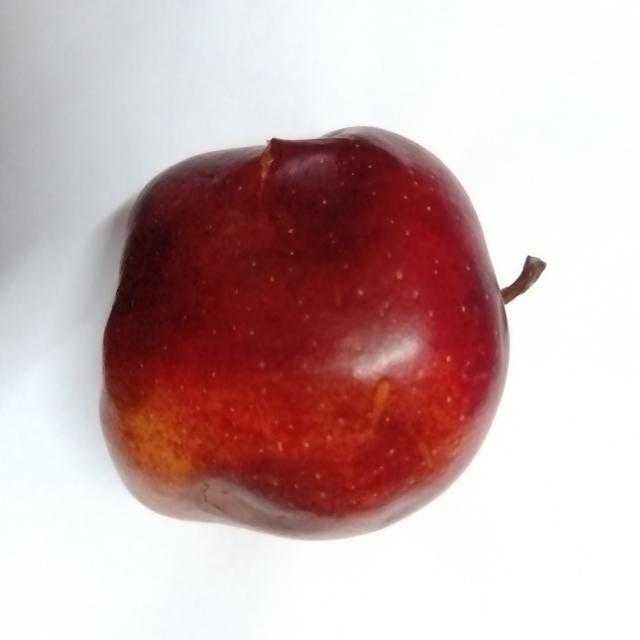apple: (101, 128, 543, 537)
